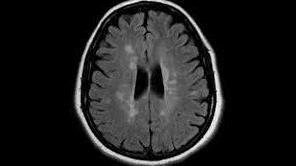Normal_Brain: (1, 2, 296, 166)
